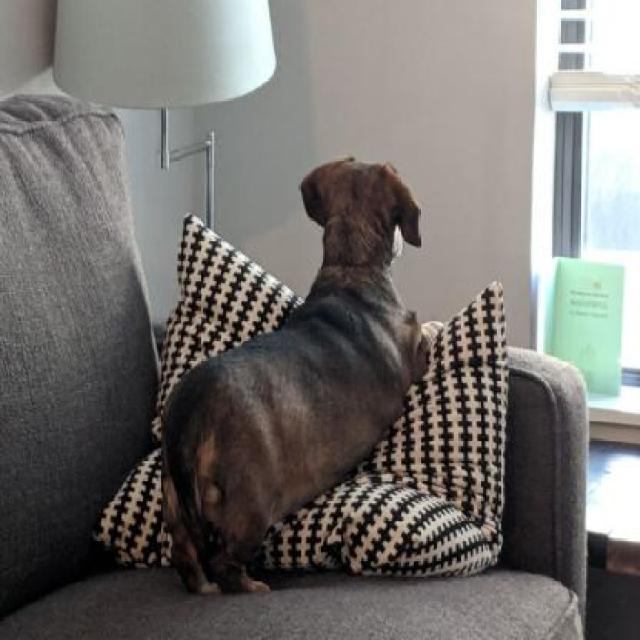Dog: (156, 154, 447, 600)
